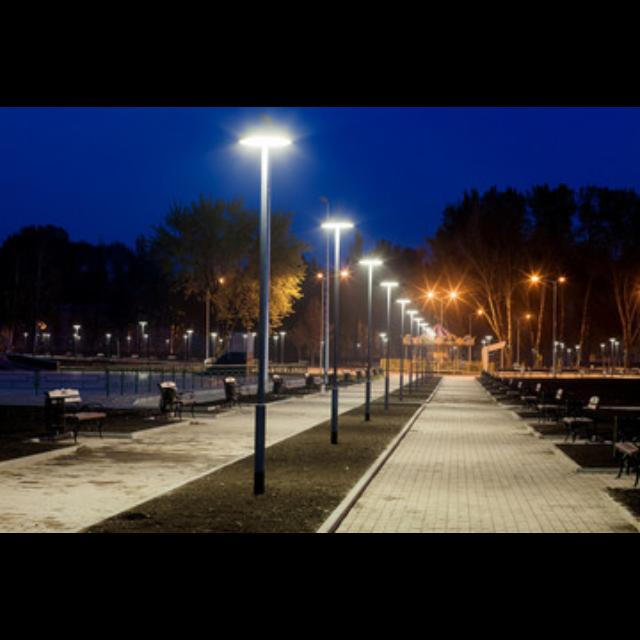Street-Lamp: (230, 114, 298, 502)
